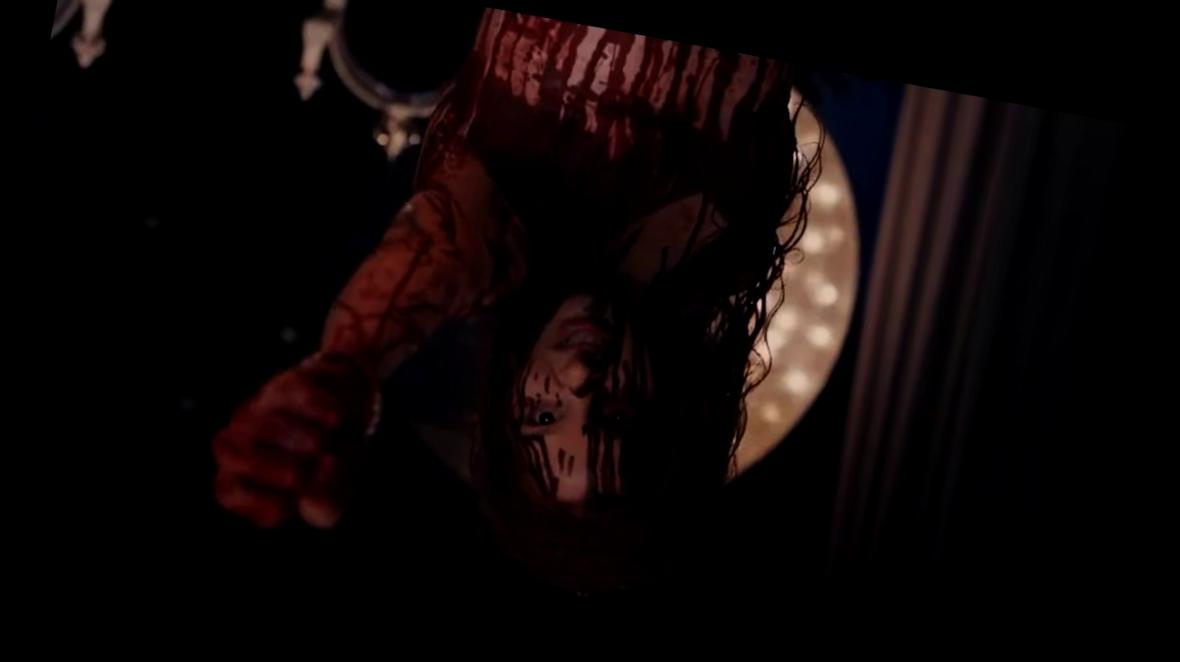Fire: (209, 10, 796, 596)
